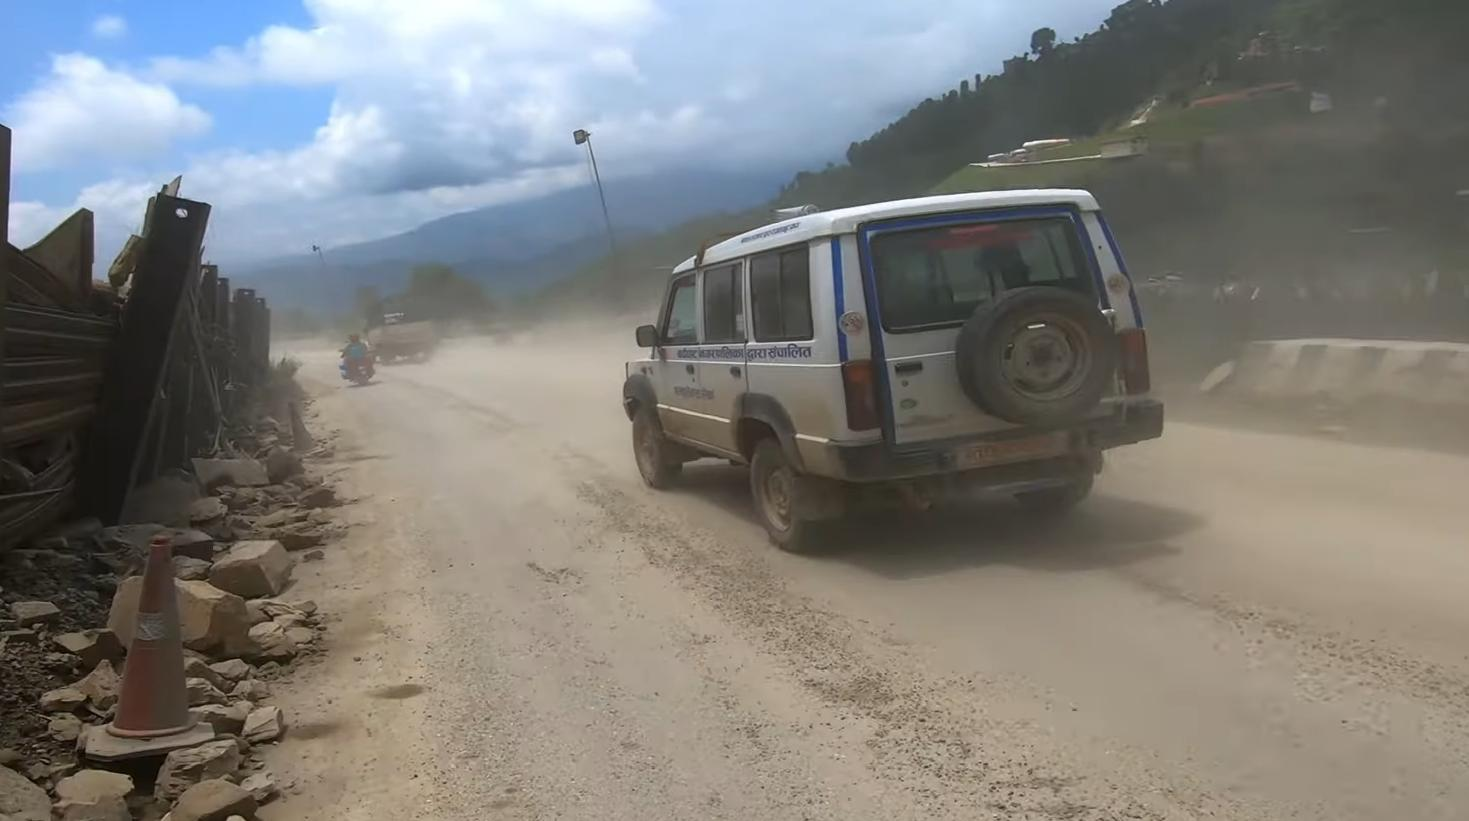ambulance: (616, 184, 1165, 559)
